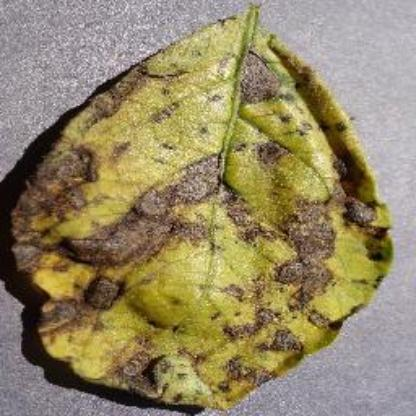Early-Blight: (12, 5, 392, 411)
